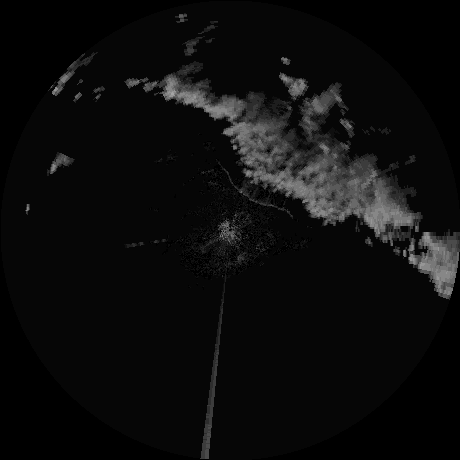frontgust: (220, 167, 291, 213)
